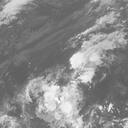cyclone: (68, 49, 98, 85)
